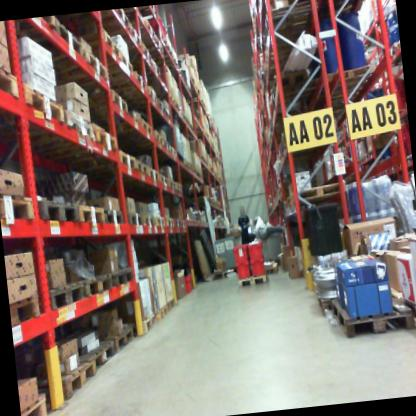pallet: (331, 292, 414, 339), (31, 106, 95, 163), (34, 347, 98, 402), (59, 44, 108, 102), (56, 118, 108, 170), (38, 15, 83, 68), (27, 81, 65, 140), (79, 335, 117, 373), (37, 193, 79, 227), (83, 132, 118, 172), (0, 191, 36, 229), (88, 88, 128, 121), (289, 181, 342, 205), (48, 279, 87, 308), (21, 17, 57, 48), (100, 323, 135, 352), (121, 117, 153, 146), (83, 270, 114, 297), (79, 202, 106, 229), (19, 391, 46, 416), (103, 29, 120, 67), (111, 261, 135, 286), (239, 270, 268, 286), (119, 149, 137, 172), (405, 297, 416, 333), (315, 296, 334, 314), (104, 209, 123, 227), (131, 70, 146, 90), (154, 129, 165, 155), (141, 314, 156, 333), (121, 53, 133, 76), (127, 210, 143, 227), (136, 157, 148, 178), (143, 212, 155, 229), (154, 304, 168, 318), (148, 166, 159, 182), (148, 87, 157, 103), (165, 295, 176, 308), (154, 214, 164, 228), (164, 138, 172, 154), (160, 173, 169, 187), (175, 181, 183, 195), (169, 176, 176, 192), (165, 216, 175, 227), (157, 101, 164, 115), (164, 107, 171, 121), (174, 217, 181, 229), (171, 146, 177, 159), (180, 218, 186, 228)
small_load_carrier: (245, 238, 265, 261), (247, 256, 267, 276), (232, 260, 251, 278), (231, 242, 247, 262)
